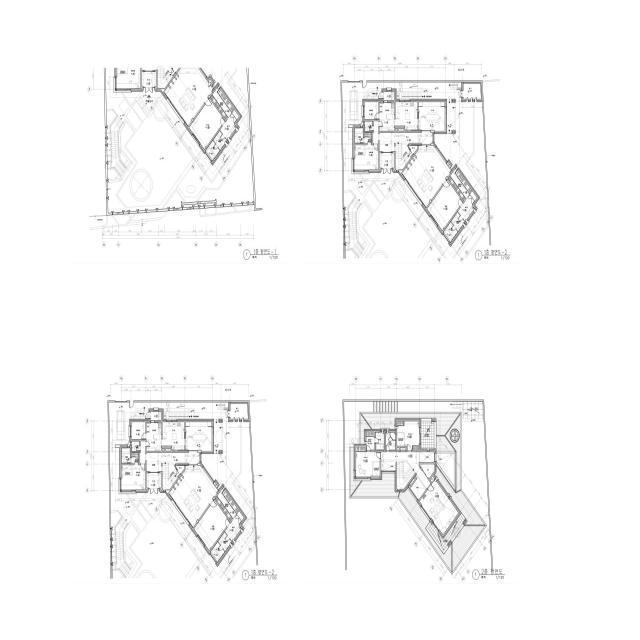space_balconi: (426, 515, 464, 554), (421, 418, 436, 449)
space_bedroom: (427, 180, 463, 231), (194, 500, 230, 551), (189, 99, 225, 149), (356, 447, 380, 477), (397, 421, 419, 450), (121, 465, 145, 490), (354, 145, 378, 170), (117, 68, 140, 88), (365, 102, 378, 119), (132, 422, 145, 439)
space_dressroom: (210, 86, 234, 120), (215, 487, 239, 521), (448, 167, 472, 201), (366, 432, 374, 450), (365, 133, 372, 143), (132, 453, 139, 463)
space_front: (147, 473, 161, 488), (380, 153, 394, 168), (142, 72, 156, 86), (151, 412, 161, 420), (384, 92, 394, 100)
space_kitchen: (186, 422, 212, 451), (419, 102, 445, 131), (395, 102, 417, 130), (162, 422, 184, 450), (147, 423, 161, 451), (380, 103, 394, 131)
space_living_room: (402, 146, 452, 207), (169, 466, 219, 527), (164, 68, 214, 126), (381, 452, 431, 488), (380, 133, 433, 157), (147, 453, 200, 477)
space_other: (420, 479, 459, 535), (458, 191, 477, 222), (225, 511, 244, 542), (220, 110, 239, 140), (463, 83, 481, 99), (230, 403, 248, 419), (420, 464, 434, 478), (140, 441, 145, 463), (373, 121, 378, 143), (175, 466, 184, 474), (408, 146, 417, 154), (430, 476, 435, 483), (380, 401, 382, 412), (377, 401, 379, 412), (383, 401, 385, 412), (389, 401, 391, 412), (374, 401, 376, 412), (386, 401, 388, 412), (392, 401, 394, 412), (395, 401, 397, 412), (399, 128, 404, 131), (166, 448, 171, 451), (400, 448, 405, 450), (395, 128, 398, 131), (162, 448, 165, 451), (397, 448, 399, 450)
space_staircase: (397, 462, 416, 489), (162, 464, 180, 490), (395, 144, 413, 170)
space_toilet: (210, 542, 225, 562), (206, 140, 220, 161), (444, 222, 458, 242), (213, 131, 227, 150), (218, 532, 232, 551), (451, 212, 465, 231), (386, 432, 396, 450), (375, 432, 384, 450), (121, 448, 130, 463), (355, 128, 363, 143), (365, 121, 372, 131), (132, 441, 139, 451)
